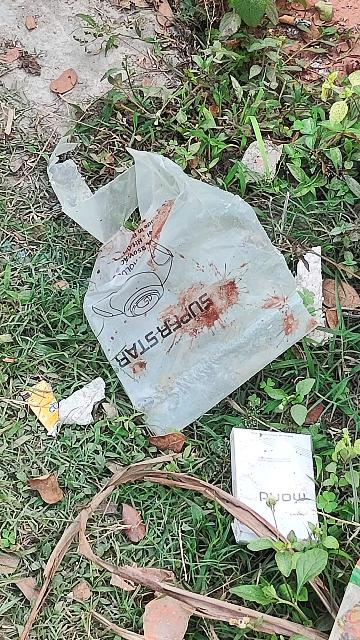polythene: (5, 103, 343, 448)
